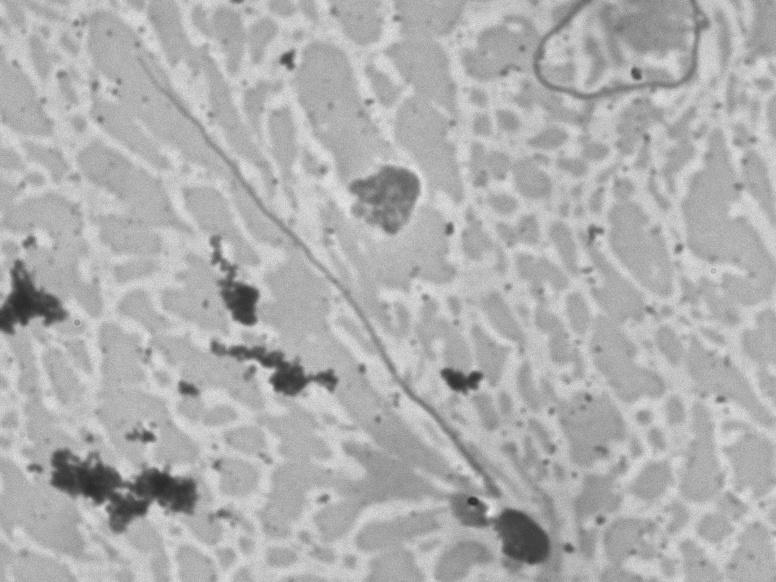Abnormal: (115, 31, 569, 570)
